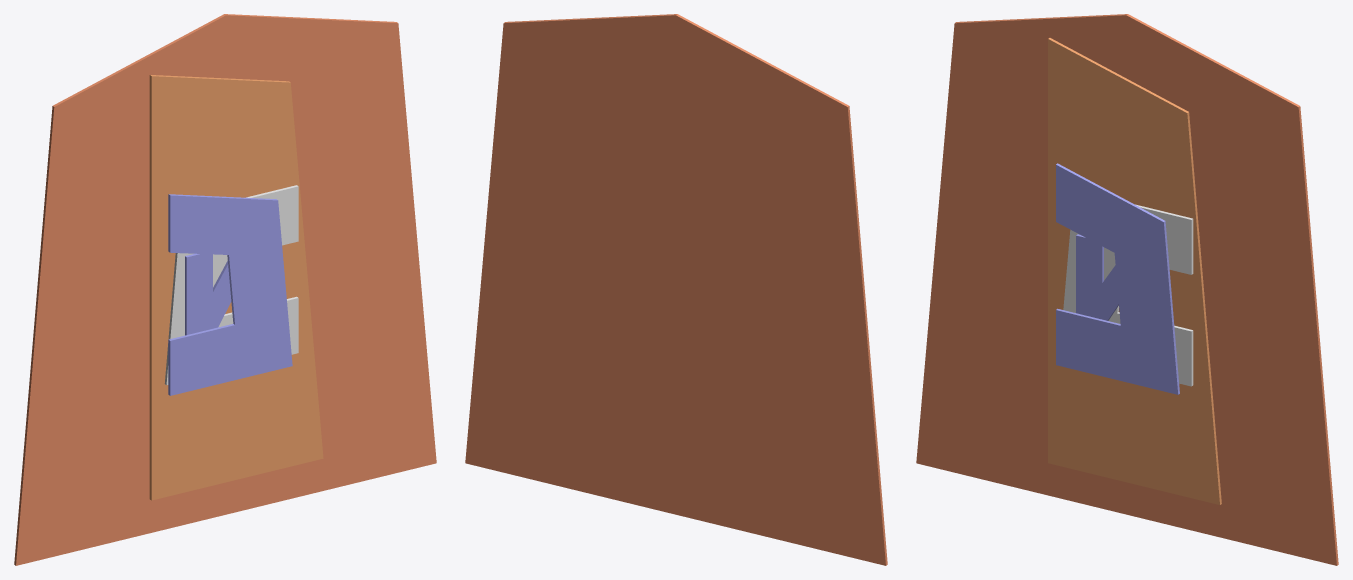
The model's file is html5-original-wordmark.glb.
The picture shows the model from 3 angles, left to right: view 1: azimuth 30°, elevation 25°; view 2: azimuth 150°, elevation 25°; view 3: azimuth 330°, elevation 25°; orthographic projection.
Visible parts, largest first — view 1: layer_0, layer_1, layer_4, layer_2, layer_3; view 2: layer_0; view 3: layer_0, layer_1, layer_4, layer_2, layer_3.
Boxes of the visible parts, x1,y1,x2,y2 form: layer_0: (14,14,436,565); layer_1: (149,75,323,500); layer_4: (168,194,292,395); layer_2: (164,185,298,385); layer_3: (185,253,231,335); layer_0: (465,14,887,565); layer_0: (916,14,1338,565); layer_1: (1048,38,1221,504); layer_4: (1056,163,1179,394); layer_2: (1063,204,1193,386); layer_3: (1076,234,1118,320).
Size of the model in its own units: 69.05 by 78.3 by 2.58.
